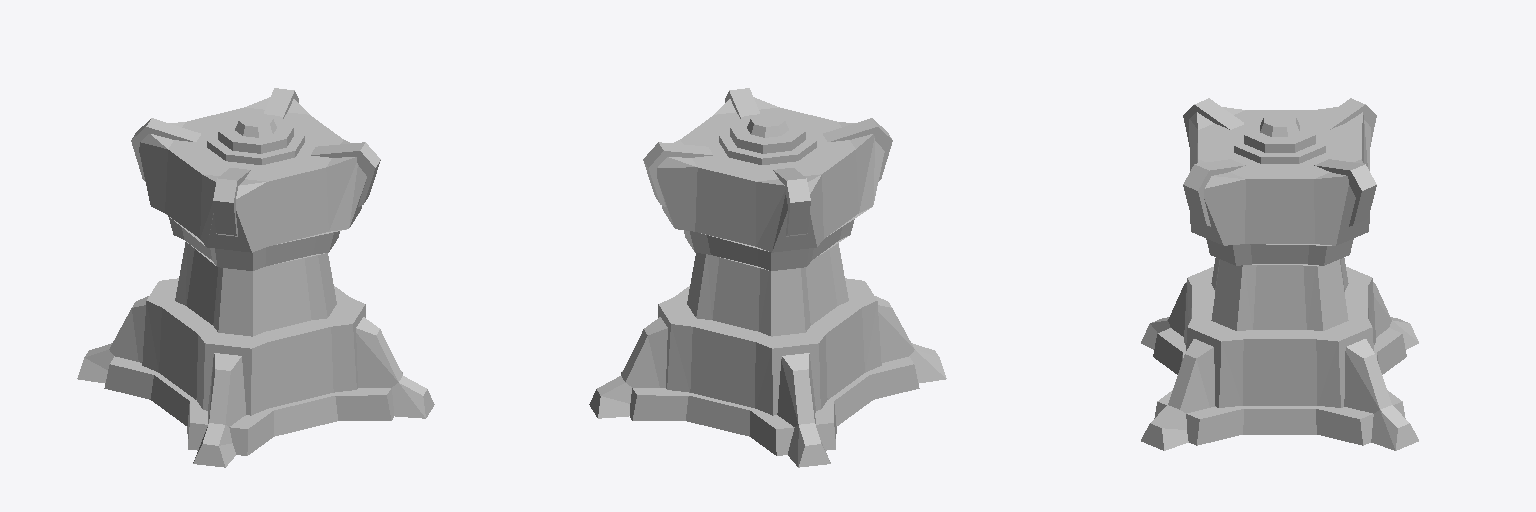
Rendered from MageTower_Lvl4_A.obj.
3 renders of one model, left to right at view 1: azimuth 30°, elevation 25°; view 2: azimuth 150°, elevation 25°; view 3: azimuth 270°, elevation 25°, orthographic.
Parts seen in each view (by area): view 1: TB_MageTower_Lvl4_A; view 2: TB_MageTower_Lvl4_A; view 3: TB_MageTower_Lvl4_A.
Part boxes in pixels (bbox=[...]): TB_MageTower_Lvl4_A: bbox=[77, 88, 434, 467]; TB_MageTower_Lvl4_A: bbox=[589, 88, 946, 467]; TB_MageTower_Lvl4_A: bbox=[1141, 98, 1418, 450].
Size of the model in its own units: 8.23 by 8.85 by 8.23.